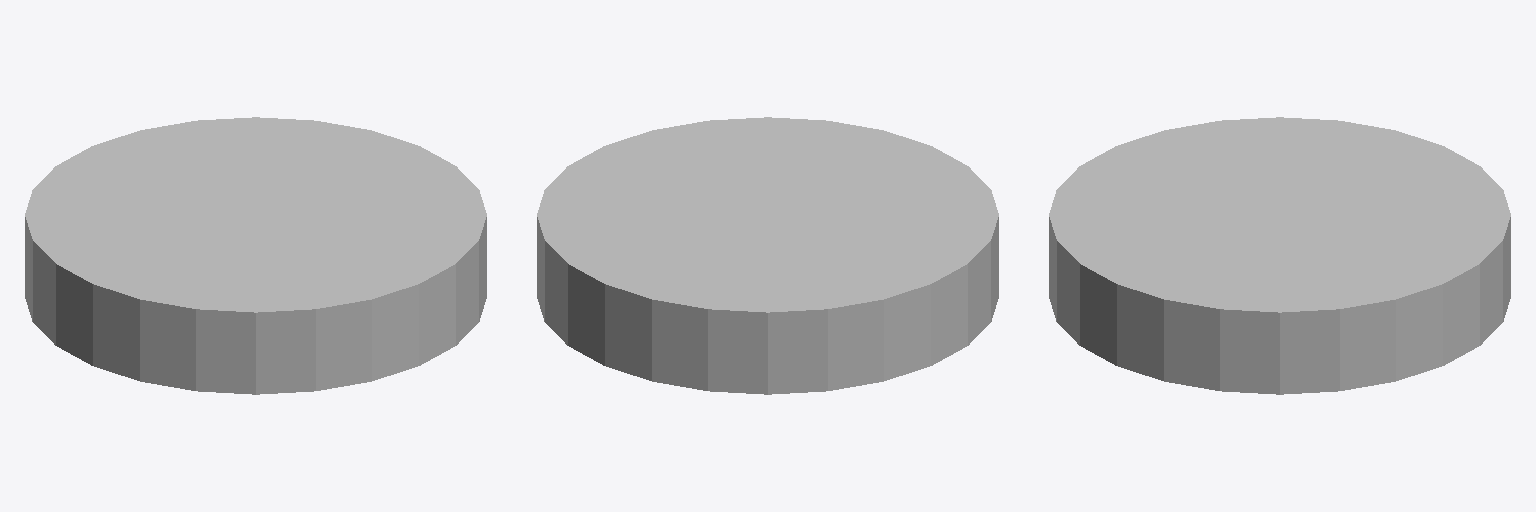
File: fourInARowChip.obj
3 renders of one model, left to right at view 1: azimuth 30°, elevation 25°; view 2: azimuth 150°, elevation 25°; view 3: azimuth 270°, elevation 25°, orthographic.
Visible parts, largest first — view 1: Chip_Plane.028; view 2: Chip_Plane.028; view 3: Chip_Plane.028.
Part boxes in pixels (bbox=[...]): Chip_Plane.028: bbox=[25, 117, 486, 394]; Chip_Plane.028: bbox=[537, 117, 998, 394]; Chip_Plane.028: bbox=[1049, 117, 1510, 394].
Size of the model in its own units: 0.05 by 0.0098 by 0.05.